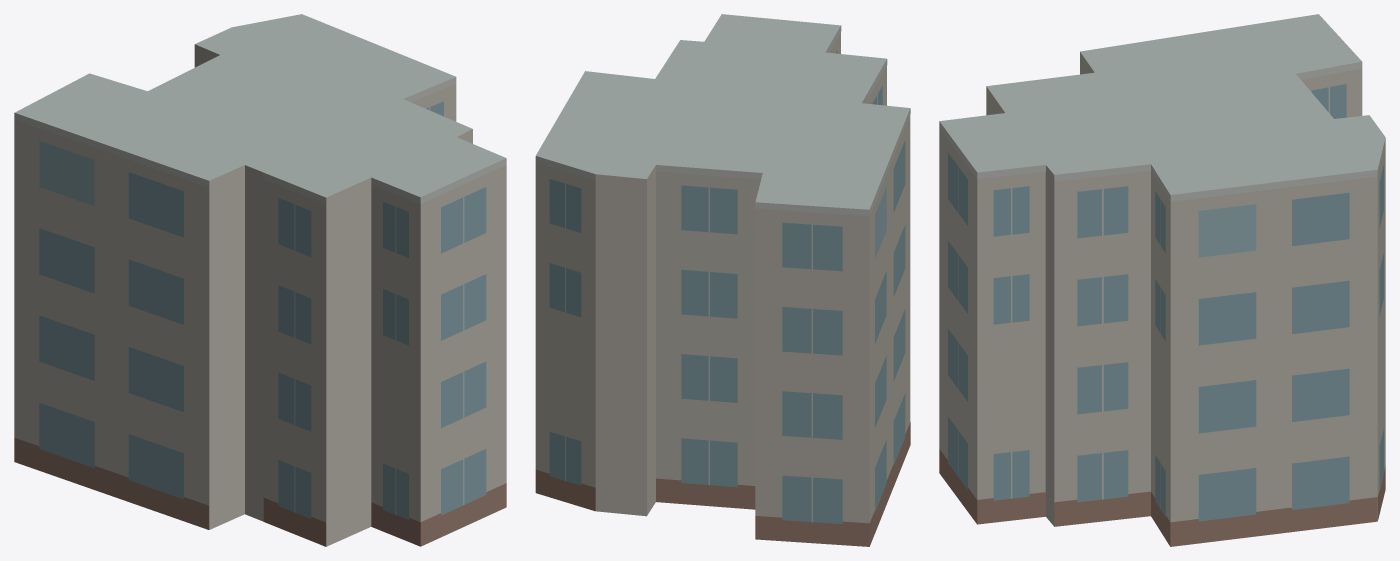
The model's file is survey-upis-32512381.glb.
The picture shows the model from 3 angles, left to right: view 1: azimuth 30°, elevation 25°; view 2: azimuth 150°, elevation 25°; view 3: azimuth 270°, elevation 25°; orthographic projection. The views are drawn at different scales.
Visible parts, largest first — view 1: survey-upis-32512381.tmp; view 2: survey-upis-32512381.tmp; view 3: survey-upis-32512381.tmp.
Boxes of the visible parts, x1=… form: survey-upis-32512381.tmp: x1=14, y1=14, x2=506, y2=546; survey-upis-32512381.tmp: x1=535, y1=14, x2=910, y2=546; survey-upis-32512381.tmp: x1=939, y1=14, x2=1385, y2=546.
Bounding box in the file's own units: 14.13 × 12.8 × 14.72.
